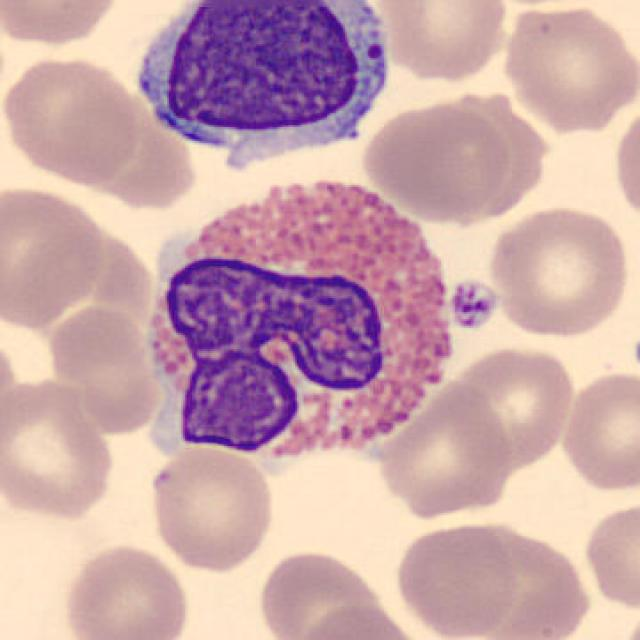Eosinophil: (128, 153, 462, 483)
Lymphocyte: (126, 0, 404, 187)
Platelets: (448, 275, 500, 332)
RBC: (483, 201, 633, 340), (372, 377, 516, 520), (0, 51, 144, 189), (359, 97, 514, 224), (498, 0, 636, 134), (0, 374, 119, 524), (146, 442, 277, 574), (444, 342, 578, 469), (44, 302, 166, 436), (0, 182, 107, 332), (442, 530, 587, 640), (391, 518, 523, 638), (58, 539, 193, 640), (254, 546, 392, 640), (370, 0, 514, 85), (556, 365, 640, 497), (580, 496, 638, 614), (0, 0, 124, 49), (292, 601, 430, 640), (610, 95, 640, 229)
